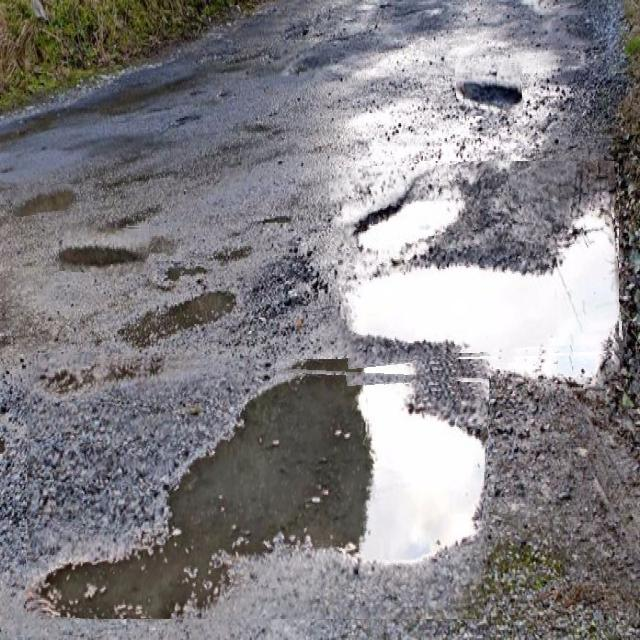Pothole: (28, 355, 490, 619), (332, 161, 619, 363), (59, 224, 150, 273), (456, 62, 522, 116), (272, 42, 331, 83), (11, 184, 75, 215)
